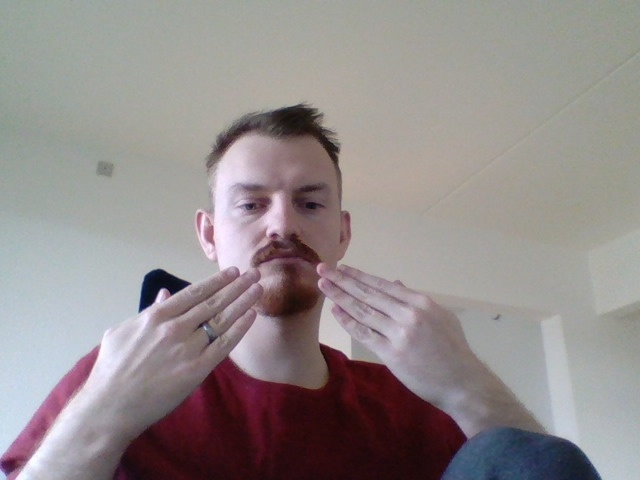ThankYou: (101, 261, 471, 416)
